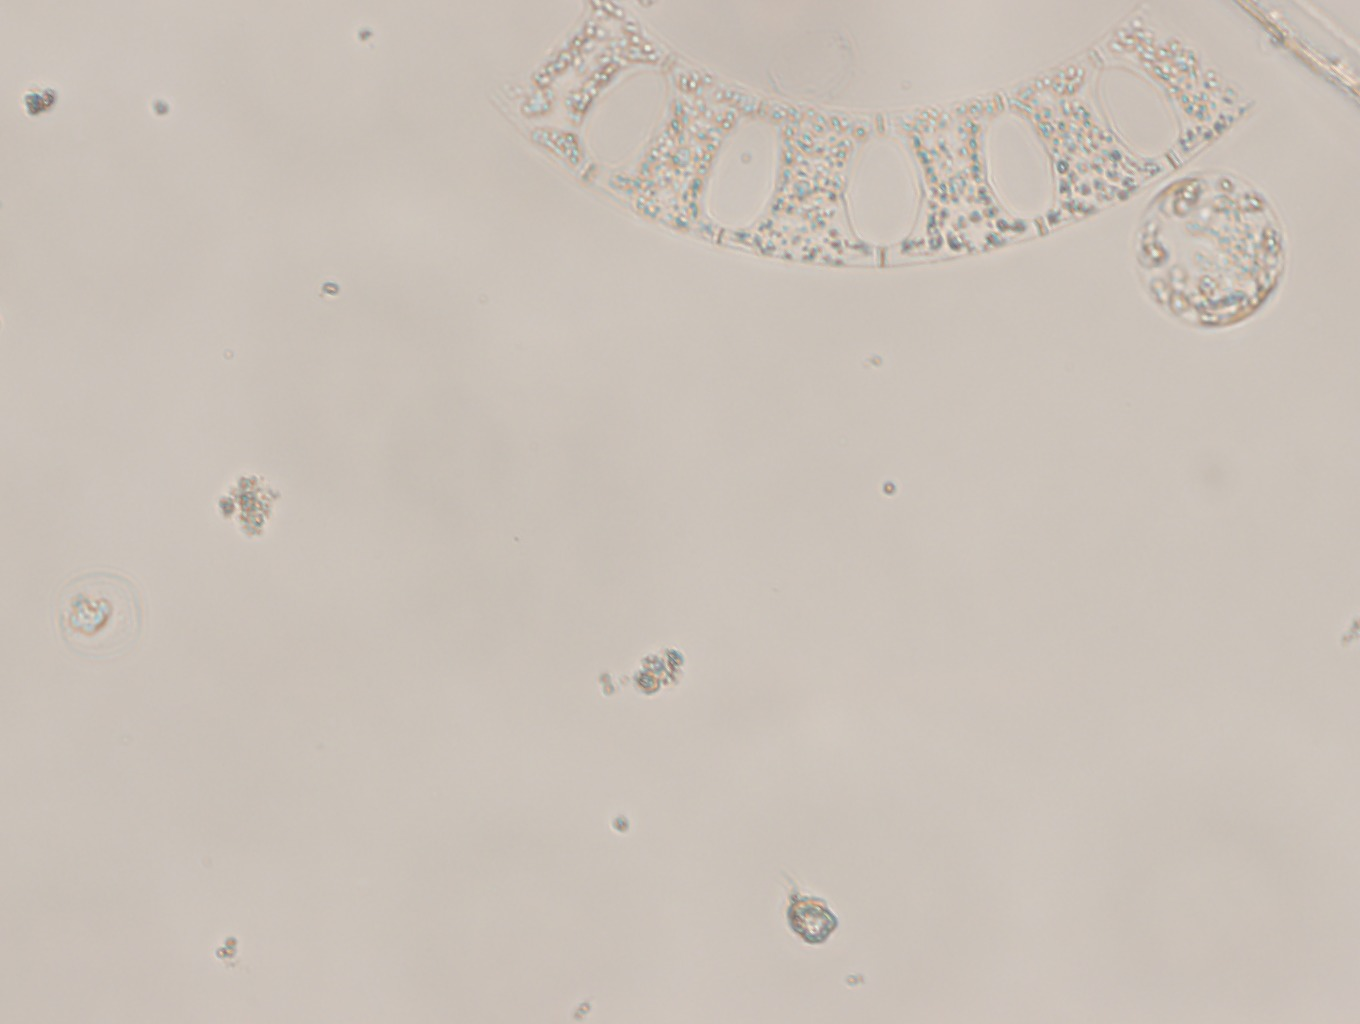eucampia: (486, 1, 1256, 272)
